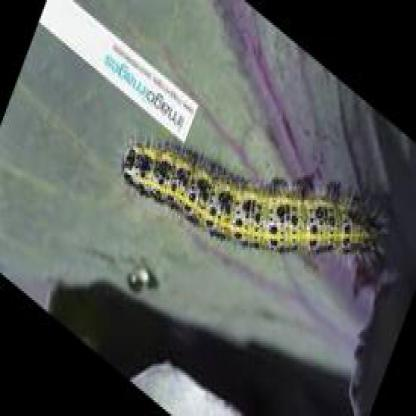pieris: (122, 139, 388, 256)
